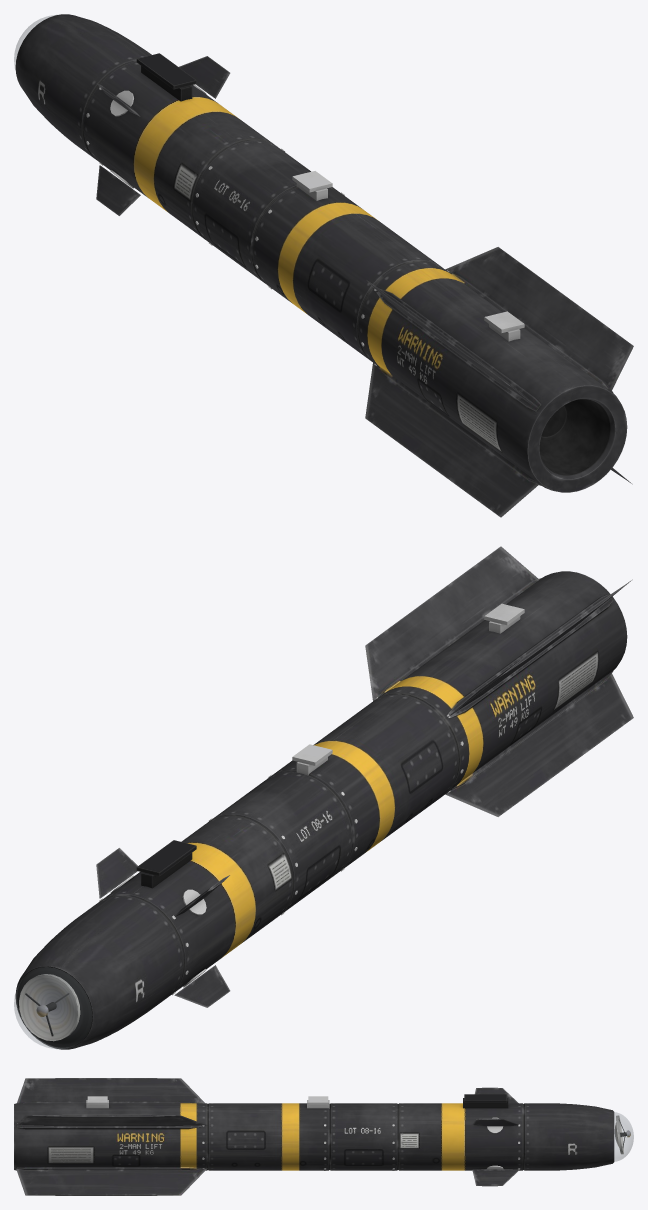
File: agm114.glb
3 views of the same model, one above another, from view 1: azimuth 30°, elevation 25°; view 2: azimuth 150°, elevation 25°; view 3: azimuth 270°, elevation 25° (orthographic). The views are drawn at different scales.
Visible parts, largest first — view 1: HF_body, HF_wings, HF_fixed, fin_c3, fin_c1; view 2: HF_body, HF_wings, HF_dome, HF_seeker, HF_fixed, fin_c3, fin_c1; view 3: HF_body, HF_wings, HF_fixed, HF_dome, fin_c2, fin_c1, HF_seeker, fin_c4.
Part boxes in pixels (box(x1,y1,x2,y2)): HF_body: box(15, 14, 627, 492); HF_wings: box(365, 247, 633, 517); HF_fixed: box(86, 53, 524, 365); fin_c3: box(96, 165, 140, 215); fin_c1: box(179, 56, 230, 98); HF_body: box(15, 571, 627, 1049); HF_wings: box(365, 546, 633, 816); HF_dome: box(14, 967, 91, 1048); HF_seeker: box(19, 970, 88, 1043); HF_fixed: box(99, 603, 524, 995); fin_c3: box(174, 965, 230, 1007); fin_c1: box(96, 848, 137, 898); HF_body: box(14, 1103, 614, 1170); HF_wings: box(16, 1078, 207, 1195); HF_fixed: box(86, 1094, 520, 1170); HF_dome: box(614, 1112, 633, 1161); fin_c2: box(472, 1169, 519, 1186); fin_c1: box(472, 1118, 518, 1126); HF_seeker: box(614, 1115, 630, 1154); fin_c4: box(475, 1087, 518, 1103).
Bounding box in the file's own units: 0.2353 × 0.2353 × 1.63.
4 materials, 3 textured.
